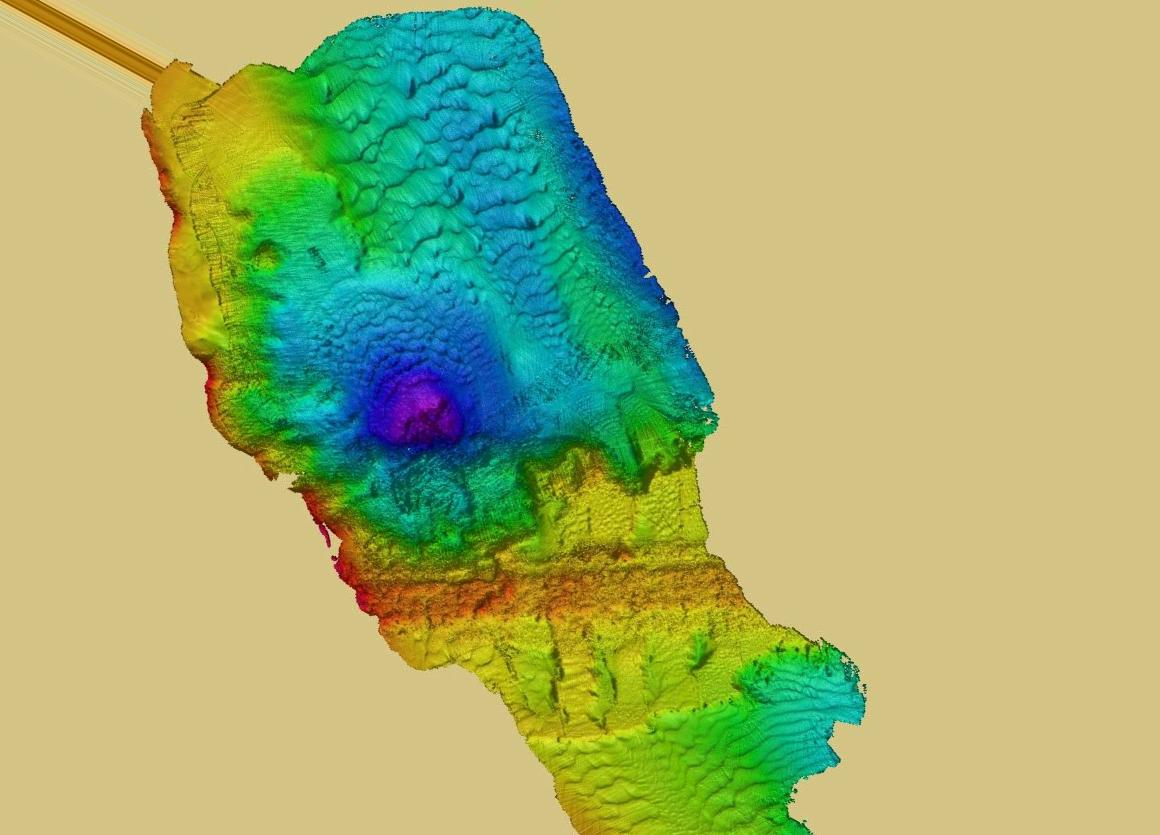Dune: (307, 10, 565, 309), (530, 747, 873, 826), (305, 305, 476, 363)
Scarp: (164, 347, 355, 599)
Scour pit: (350, 361, 540, 464)
Submerged dike: (317, 548, 832, 652)
